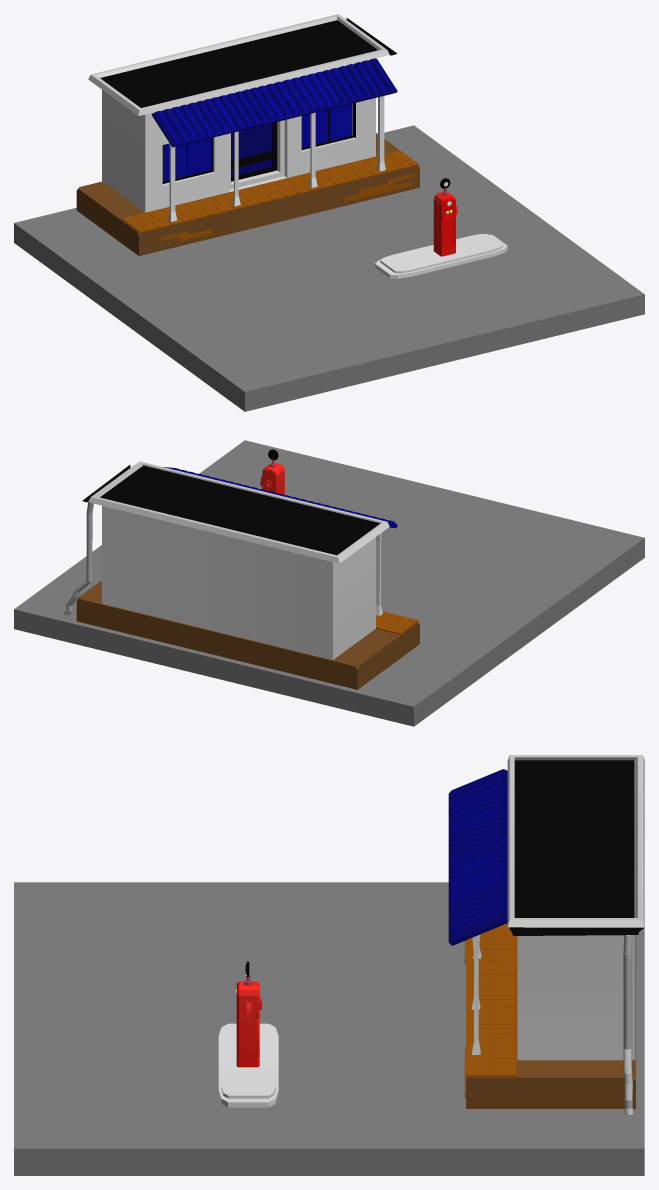
Rendered from TA_sm_gasStation.fbx.
The picture shows the model from 3 angles, top to bottom: view 1: azimuth 30°, elevation 25°; view 2: azimuth 150°, elevation 25°; view 3: azimuth 270°, elevation 25°; orthographic projection. The views are drawn at different scales.
Parts seen in each view (by area): view 1: A base de todo, Estación, Gasolina; view 2: A base de todo, Estación, Gasolina; view 3: A base de todo, Estación, Gasolina.
Part boxes in pixels (box(x1,y1,x2,y2)): A base de todo: box(14, 125, 644, 411); Estación: box(76, 14, 419, 255); Gasolina: box(375, 178, 507, 278); A base de todo: box(14, 440, 644, 726); Estación: box(64, 461, 419, 689); Gasolina: box(260, 449, 284, 494); A base de todo: box(14, 882, 644, 1175); Estación: box(448, 755, 644, 1114); Gasolina: box(218, 961, 278, 1107).
Size of the model in its own units: 14.33 by 5.14 by 14.33.
3 materials, 3 textured.
